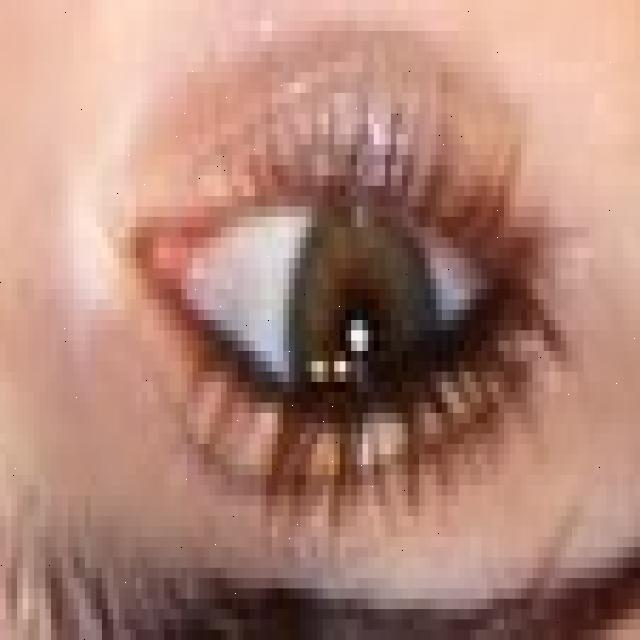Normal: (289, 180, 438, 454)
